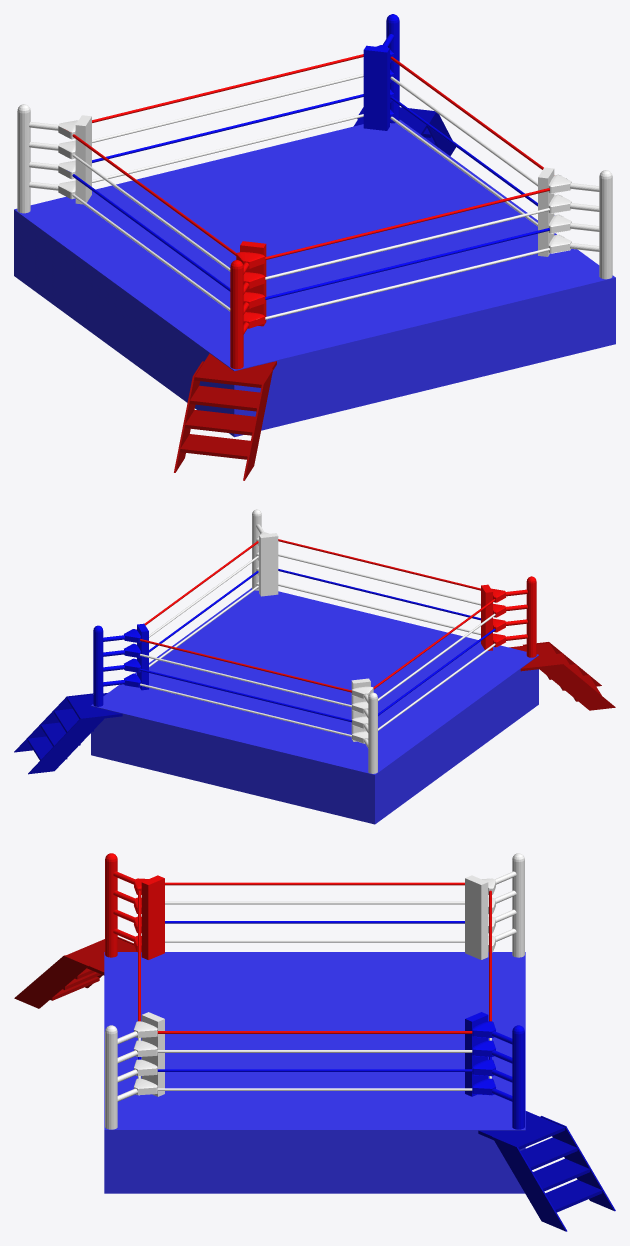
The model's file is asset_ring_amabox.fbx.
3 renders of one model, top to bottom at view 1: azimuth 30°, elevation 25°; view 2: azimuth 150°, elevation 25°; view 3: azimuth 270°, elevation 25°, orthographic. The views are drawn at different scales.
Visible parts, largest first — view 1: キャンバス (×2), 円の掃引体 (×15), 閉じた線形状の掃引体 (×5), 開いた線形状の回転体 (×4), コーナーマット (×3); view 2: キャンバス (×2), 円の掃引体 (×8), 閉じた線形状の掃引体 (×5), 開いた線形状の回転体 (×4), コーナーマット (×3); view 3: キャンバス (×2), 閉じた線形状の掃引体 (×8), 円の掃引体 (×8), 開いた線形状の回転体 (×4), コーナーマット (×6).
Part boxes in pixels (x1=…): キャンバス (×2): x1=14, y1=119, x2=615, y2=437; 円の掃引体 (×15): x1=65, y1=54, x2=549, y2=319; 閉じた線形状の掃引体 (×5): x1=180, y1=353, x2=276, y2=479; 開いた線形状の回転体 (×4): x1=17, y1=14, x2=612, y2=369; コーナーマット (×3): x1=75, y1=50, x2=553, y2=256; キャンバス (×2): x1=91, y1=588, x2=538, y2=824; 円の掃引体 (×8): x1=140, y1=539, x2=480, y2=737; 閉じた線形状の掃引体 (×5): x1=14, y1=643, x2=615, y2=774; 開いた線形状の回転体 (×4): x1=93, y1=509, x2=536, y2=773; コーナーマット (×3): x1=137, y1=536, x2=492, y2=690; キャンバス (×2): x1=104, y1=952, x2=525, y2=1193; 閉じた線形状の掃引体 (×8): x1=14, y1=938, x2=614, y2=1231; 円の掃引体 (×8): x1=157, y1=882, x2=472, y2=1090; 開いた線形状の回転体 (×4): x1=105, y1=853, x2=524, y2=1129; コーナーマット (×6): x1=141, y1=875, x2=488, y2=1096.
Size of the model in its own units: 8575 by 2590 by 8575.
